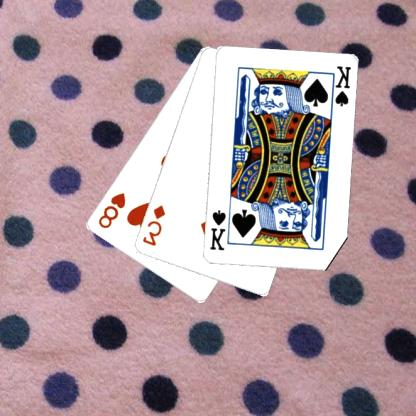3D: (141, 202, 168, 247)
8H: (97, 189, 129, 230)
KS: (329, 64, 354, 112), (208, 207, 228, 252)
